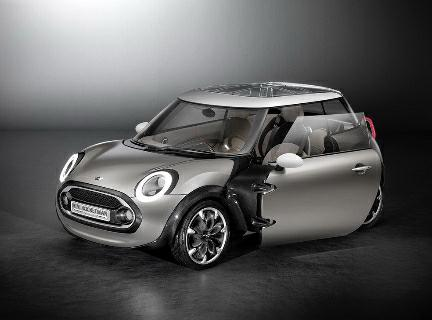MINI-ROCKETMAN: (56, 82, 374, 262)
